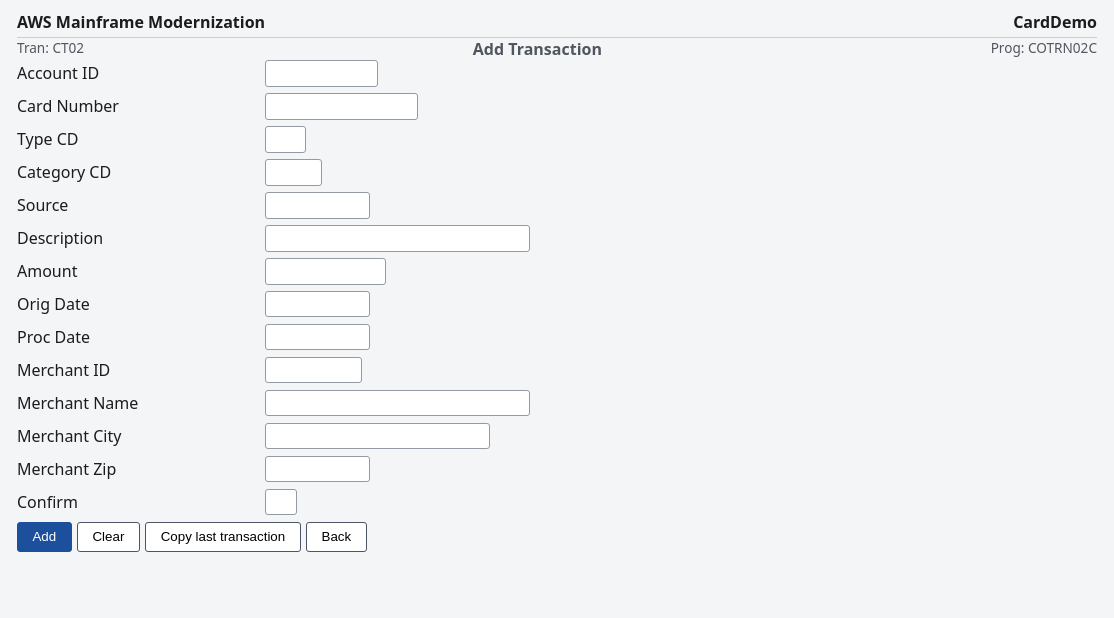
Transaction add screen › reports the edit the service refused
Click the button "Add": (44, 537) [17, 522, 72, 552]
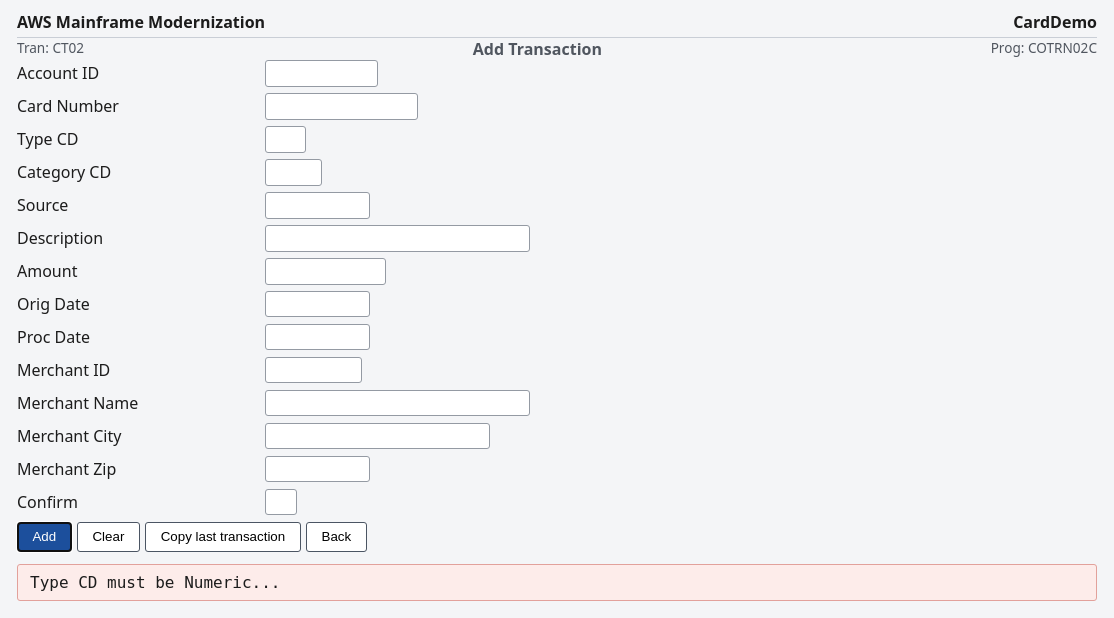
Check: the message reads "Type CD must be Numeric...", box [30, 573, 280, 592]
